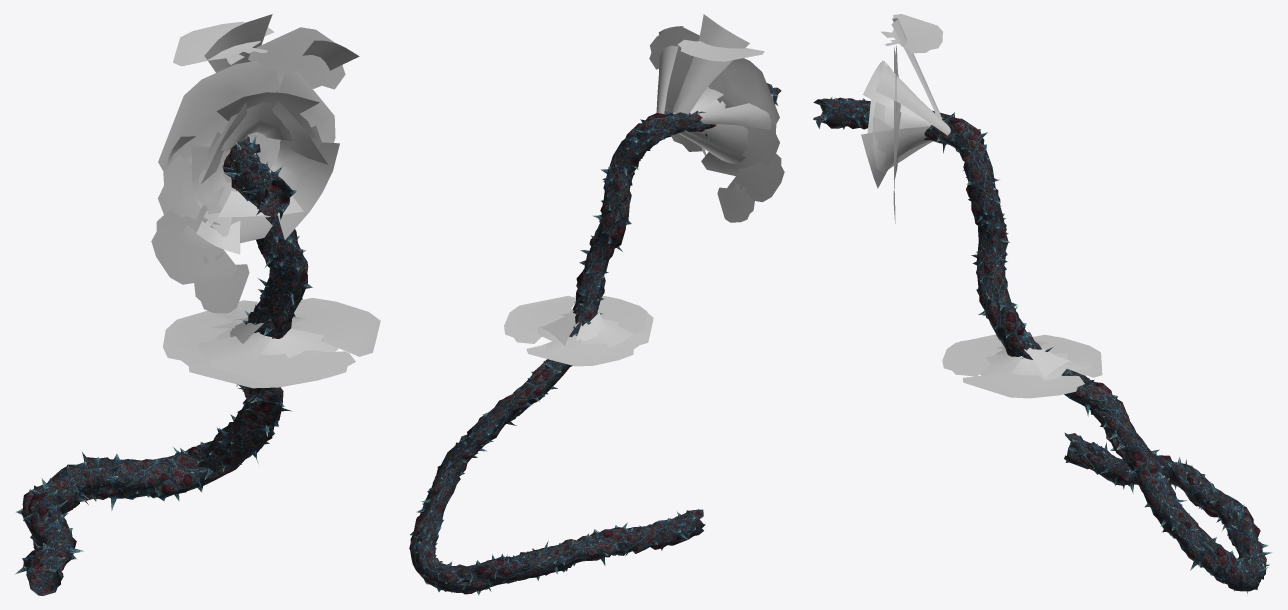
File: L03_Heltree13.fbx
The picture shows the model from 3 angles, left to right: view 1: azimuth 30°, elevation 25°; view 2: azimuth 150°, elevation 25°; view 3: azimuth 270°, elevation 25°; orthographic projection. The views are drawn at different scales.
Visible parts, largest first — view 1: LODGroup_3_MainMesh_1_SubMesh_1, LODGroup_3_MainMesh_2_SubMesh_1, LODGroup_3_MainMesh_2_SubMesh_2; view 2: LODGroup_3_MainMesh_1_SubMesh_1, LODGroup_3_MainMesh_2_SubMesh_1, LODGroup_3_MainMesh_2_SubMesh_2; view 3: LODGroup_3_MainMesh_1_SubMesh_1, LODGroup_3_MainMesh_2_SubMesh_1, LODGroup_3_MainMesh_2_SubMesh_2.
Boxes of the visible parts, <box> form: LODGroup_3_MainMesh_1_SubMesh_1: <box>151,14,380,388</box>; LODGroup_3_MainMesh_2_SubMesh_1: <box>14,134,312,595</box>; LODGroup_3_MainMesh_2_SubMesh_2: <box>22,137,308,581</box>; LODGroup_3_MainMesh_1_SubMesh_1: <box>504,14,784,366</box>; LODGroup_3_MainMesh_2_SubMesh_1: <box>409,92,778,595</box>; LODGroup_3_MainMesh_2_SubMesh_2: <box>415,83,781,594</box>; LODGroup_3_MainMesh_1_SubMesh_1: <box>861,14,1102,398</box>; LODGroup_3_MainMesh_2_SubMesh_1: <box>813,96,1272,595</box>; LODGroup_3_MainMesh_2_SubMesh_2: <box>813,97,1269,591</box>.
Bounding box in the file's own units: 1342 × 2724 × 2192.
